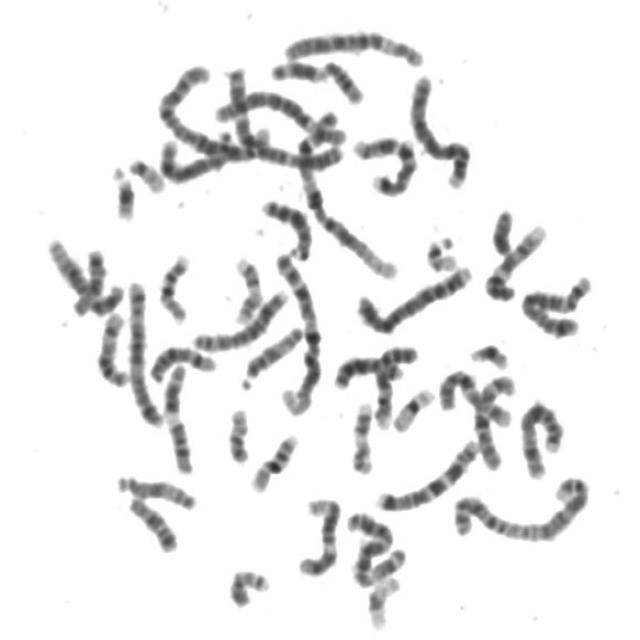A1: (288, 100, 402, 282), (269, 245, 326, 419)
A2: (152, 57, 276, 164), (446, 467, 594, 546)
A3: (222, 66, 342, 180), (342, 502, 408, 588)
B4: (350, 256, 476, 336), (403, 66, 474, 191)
B5: (120, 271, 166, 430), (515, 266, 596, 341)
C10: (432, 360, 515, 430), (469, 366, 519, 473)
C11: (264, 50, 368, 106), (158, 356, 197, 476)
C12: (41, 229, 127, 318), (291, 489, 345, 578)
C6: (277, 20, 428, 70), (208, 87, 352, 136)
C7: (370, 431, 483, 513), (346, 128, 420, 198)
C8: (187, 280, 292, 354), (153, 123, 237, 185)
C9: (480, 215, 551, 302), (368, 337, 422, 431)
D13: (255, 191, 314, 262), (327, 344, 416, 390)
D14: (143, 337, 220, 383), (91, 303, 132, 388)
D15: (234, 318, 306, 392), (110, 466, 198, 512)
E16: (244, 425, 302, 494), (152, 245, 193, 325)
E17: (226, 248, 266, 326), (344, 393, 378, 476)
E18: (122, 488, 181, 556), (67, 241, 108, 319)
F19: (386, 378, 438, 434), (360, 568, 404, 632)
F20: (223, 560, 273, 610), (220, 398, 253, 466)
G21: (105, 158, 138, 222), (462, 334, 512, 372)
G22: (121, 149, 167, 195), (418, 227, 461, 273)
X: (514, 393, 568, 481)
Y: (485, 200, 517, 256)
